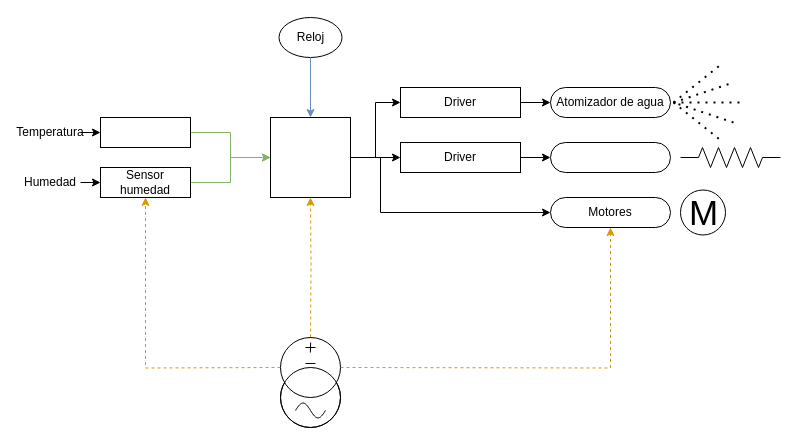
The diagram is 798 pixels wide and 445 high, and some of its shapes have lost their labels. Here are the shapes that lost their labels. From the top down, the centre of each, then its label:
pixel 145 132: Sensor temperatura
pixel 310 157: Procesador
pixel 610 157: Resistencia de calefaccion
